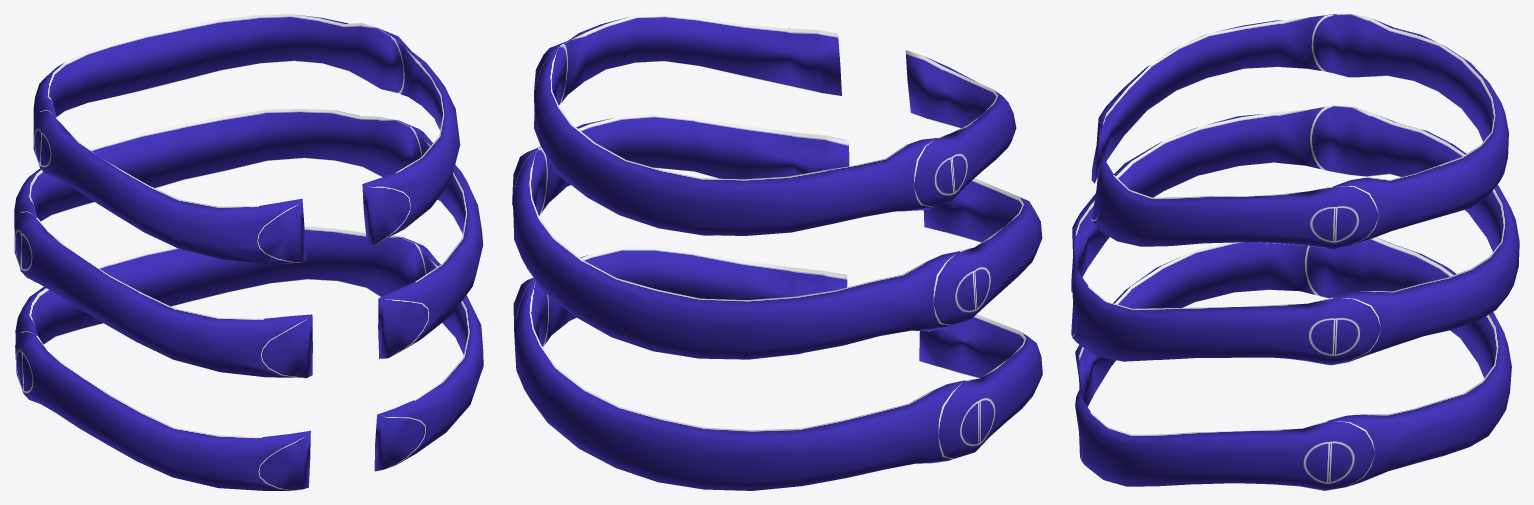
Rendered from madara_susano_bones.fbx.
3 renders of one model, left to right at view 1: azimuth 30°, elevation 25°; view 2: azimuth 150°, elevation 25°; view 3: azimuth 270°, elevation 25°, orthographic. The views are drawn at different scales.
Visible parts, largest first — view 1: Model16, Model15, Model9; view 2: Model16, Model9, Model15; view 3: Model16, Model15, Model9.
Boxes of the visible parts, x1,y1,x2,y2 form: Model16: [14, 109, 483, 378]; Model15: [33, 14, 460, 263]; Model9: [15, 226, 483, 490]; Model16: [512, 113, 1042, 359]; Model9: [513, 246, 1042, 490]; Model15: [534, 14, 1016, 235]; Model16: [1071, 105, 1519, 365]; Model15: [1091, 14, 1508, 248]; Model9: [1075, 237, 1511, 490].
Bounding box in the file's own units: 128 × 95.5 × 115.
